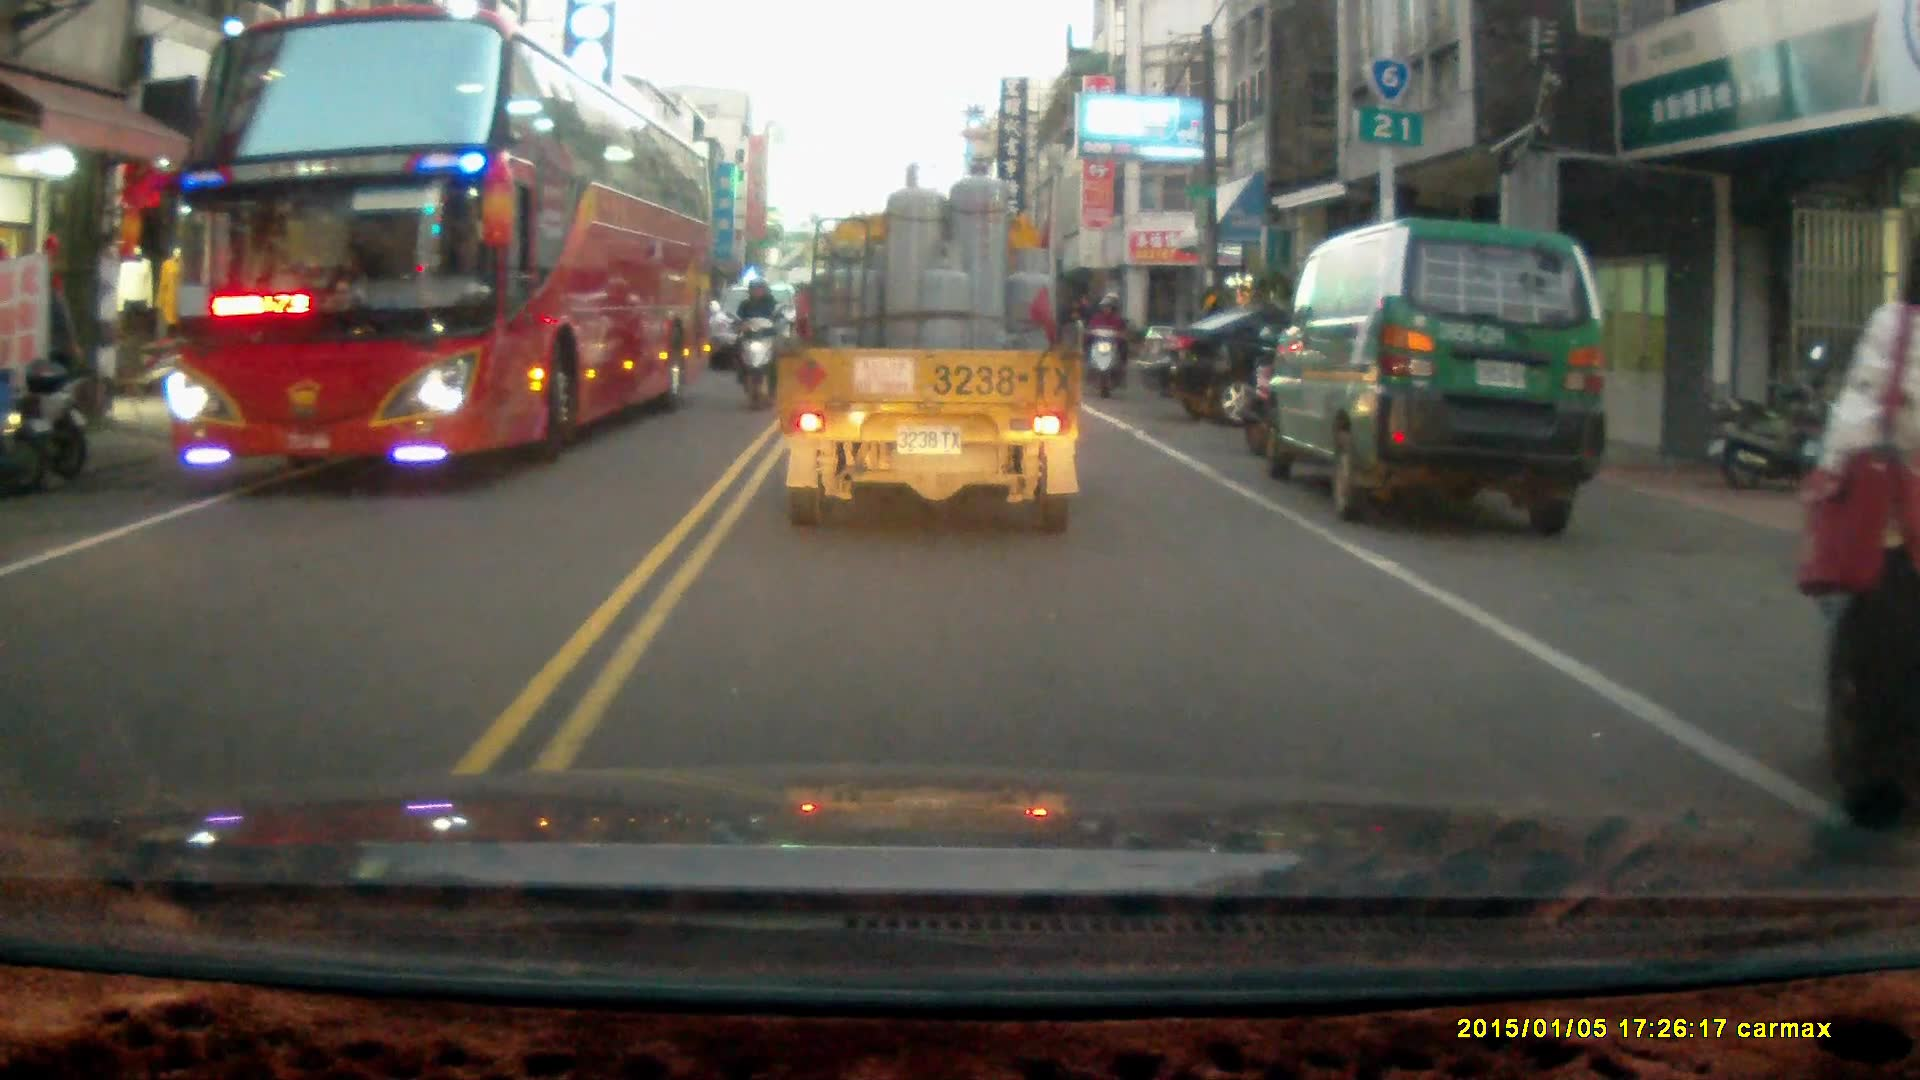pedestrian: (1810, 210, 1920, 861)
rider: (721, 275, 790, 413), (1083, 286, 1133, 395)
vehicle: (169, 12, 718, 472), (782, 156, 1084, 535), (1264, 216, 1613, 533), (1137, 304, 1468, 425), (695, 285, 820, 376)
